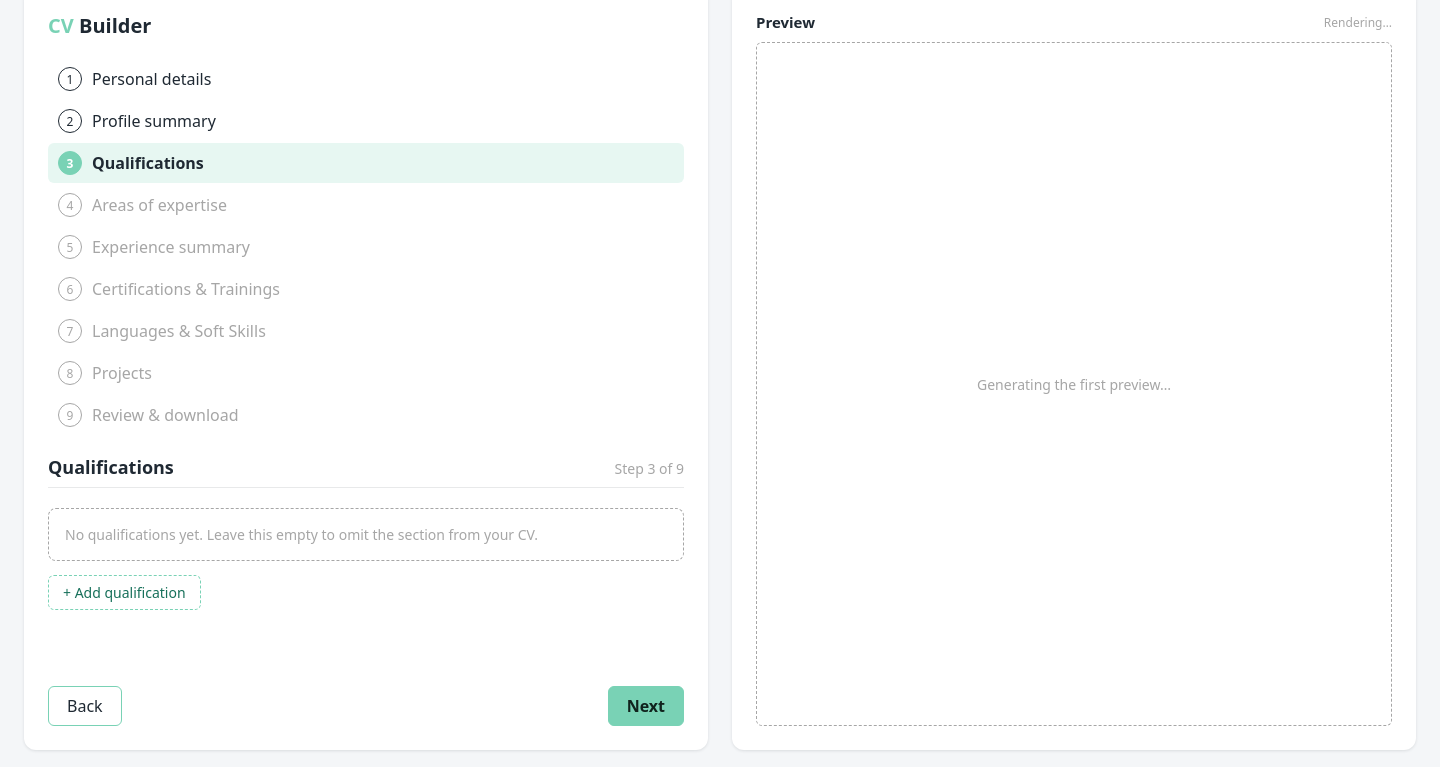
Test: repeatable sections › an added item must be completed before advancing
The image size is (1440, 767).
Click the button "+ Add qualification" at (124,592), box [48,575,201,610]
(page scrolled)
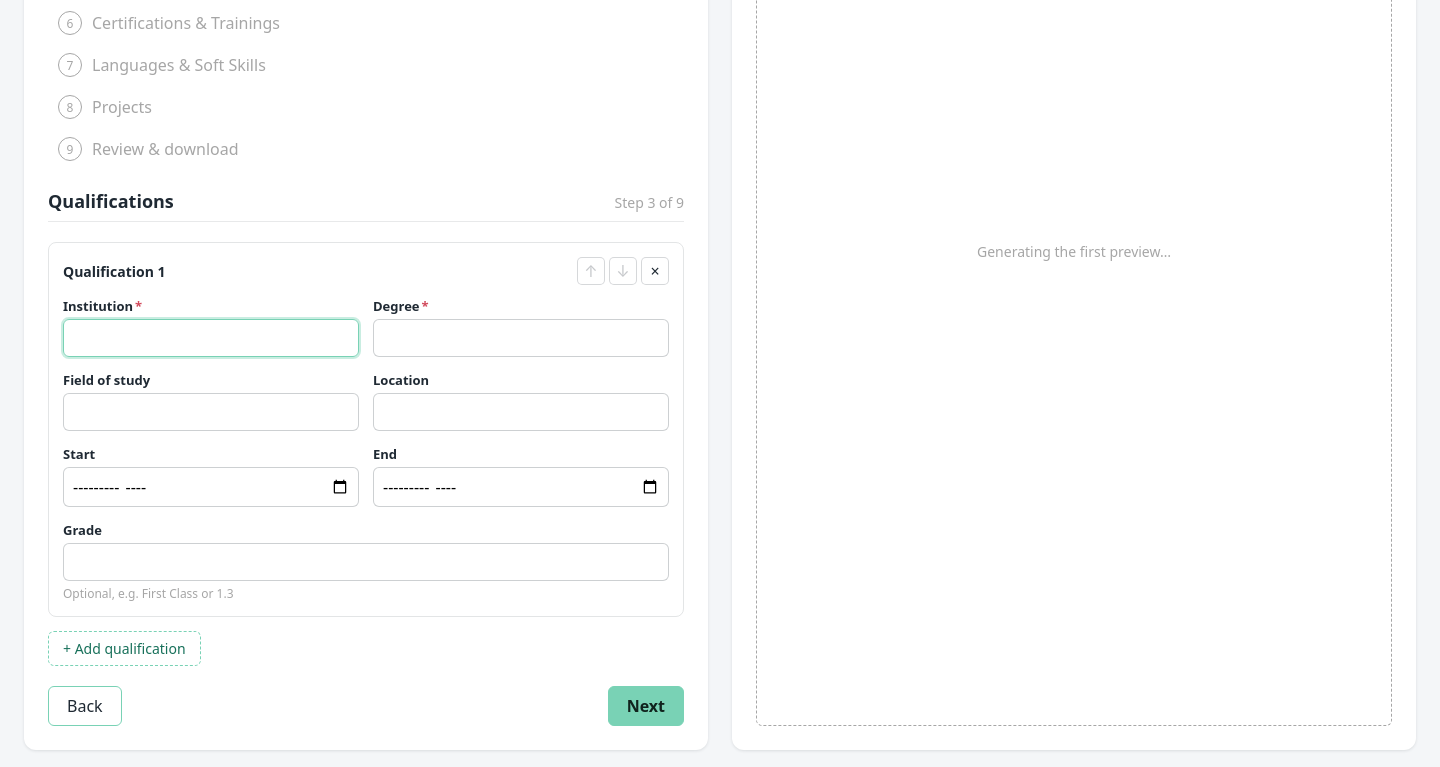
Click the button "Next" at (646,706), box [608,686,684,726]
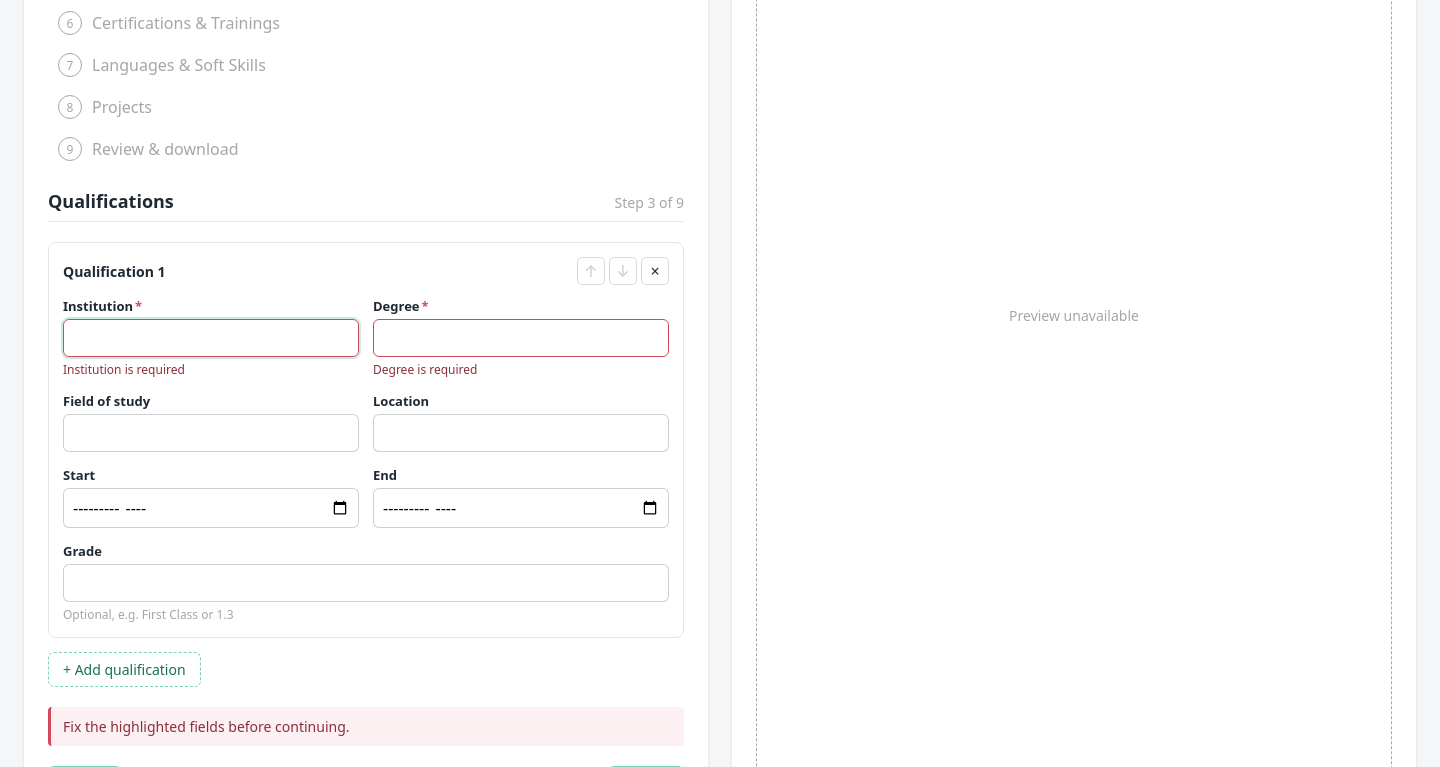
Check: the heading "Qualifications" is shown, box [48,189,174,213]
Check: the text "Institution is required" is shown, box [63,361,185,378]
